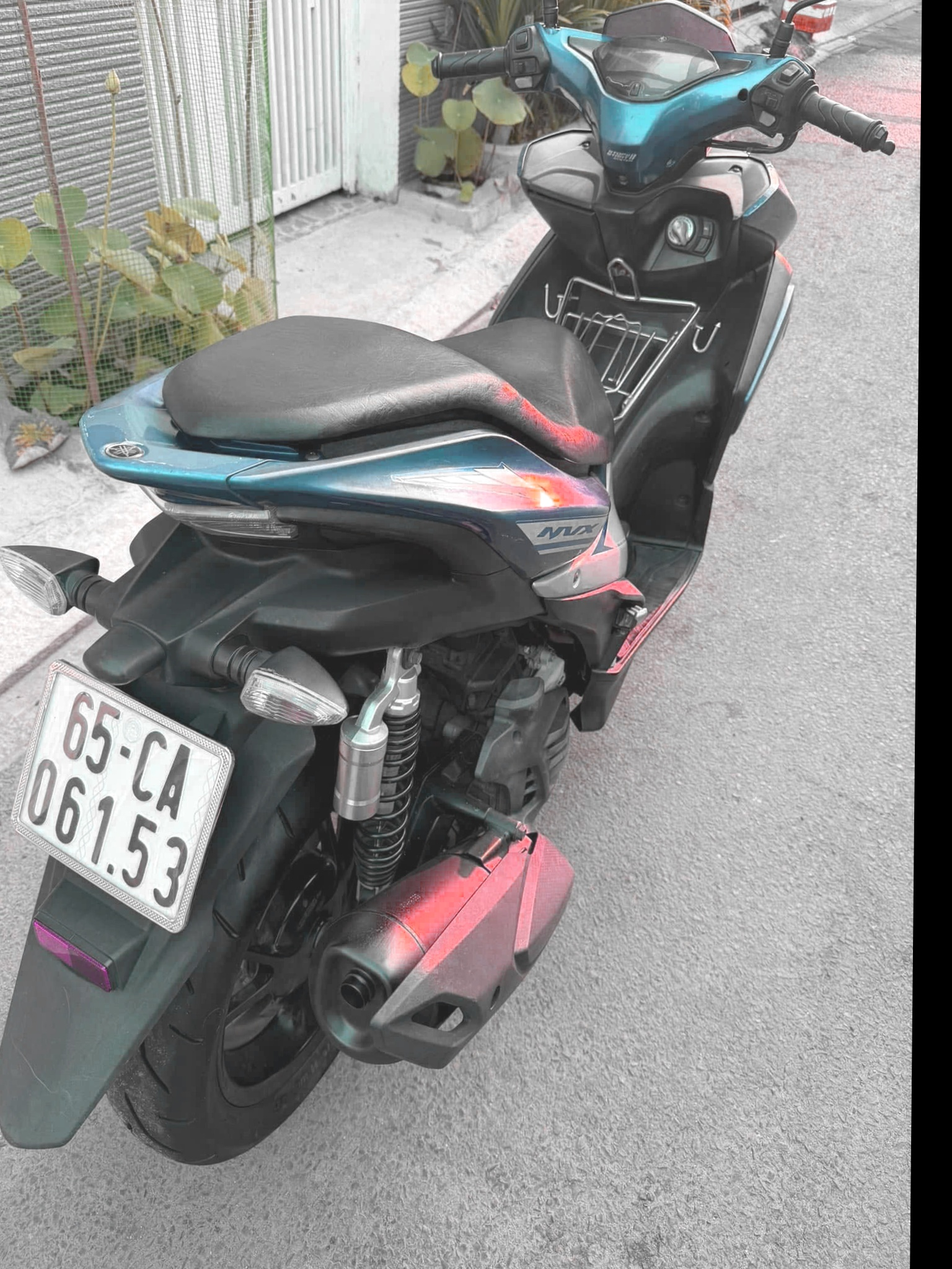Bien-so: (10, 676, 249, 954)
